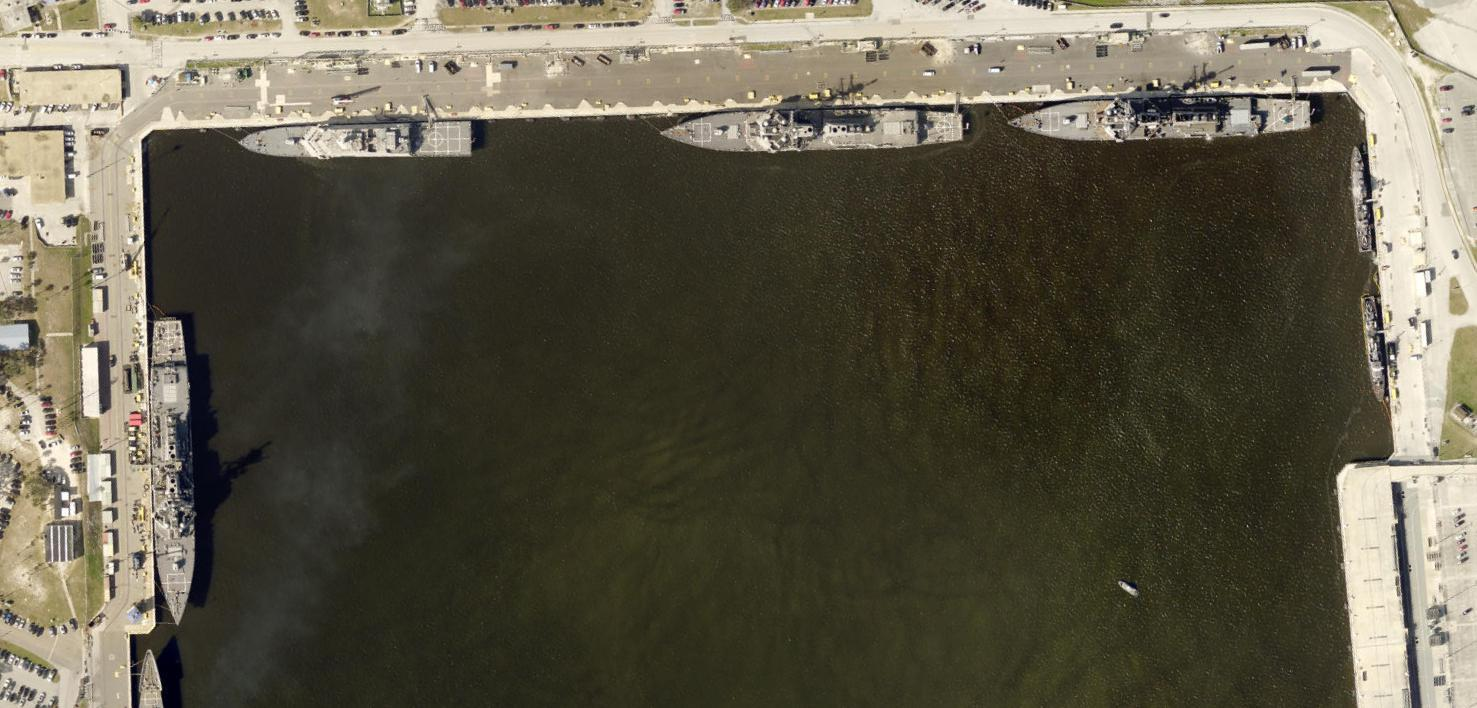fregate: (642, 80, 982, 160), (135, 311, 207, 630), (1006, 84, 1327, 153)
patrol: (237, 105, 482, 169)
